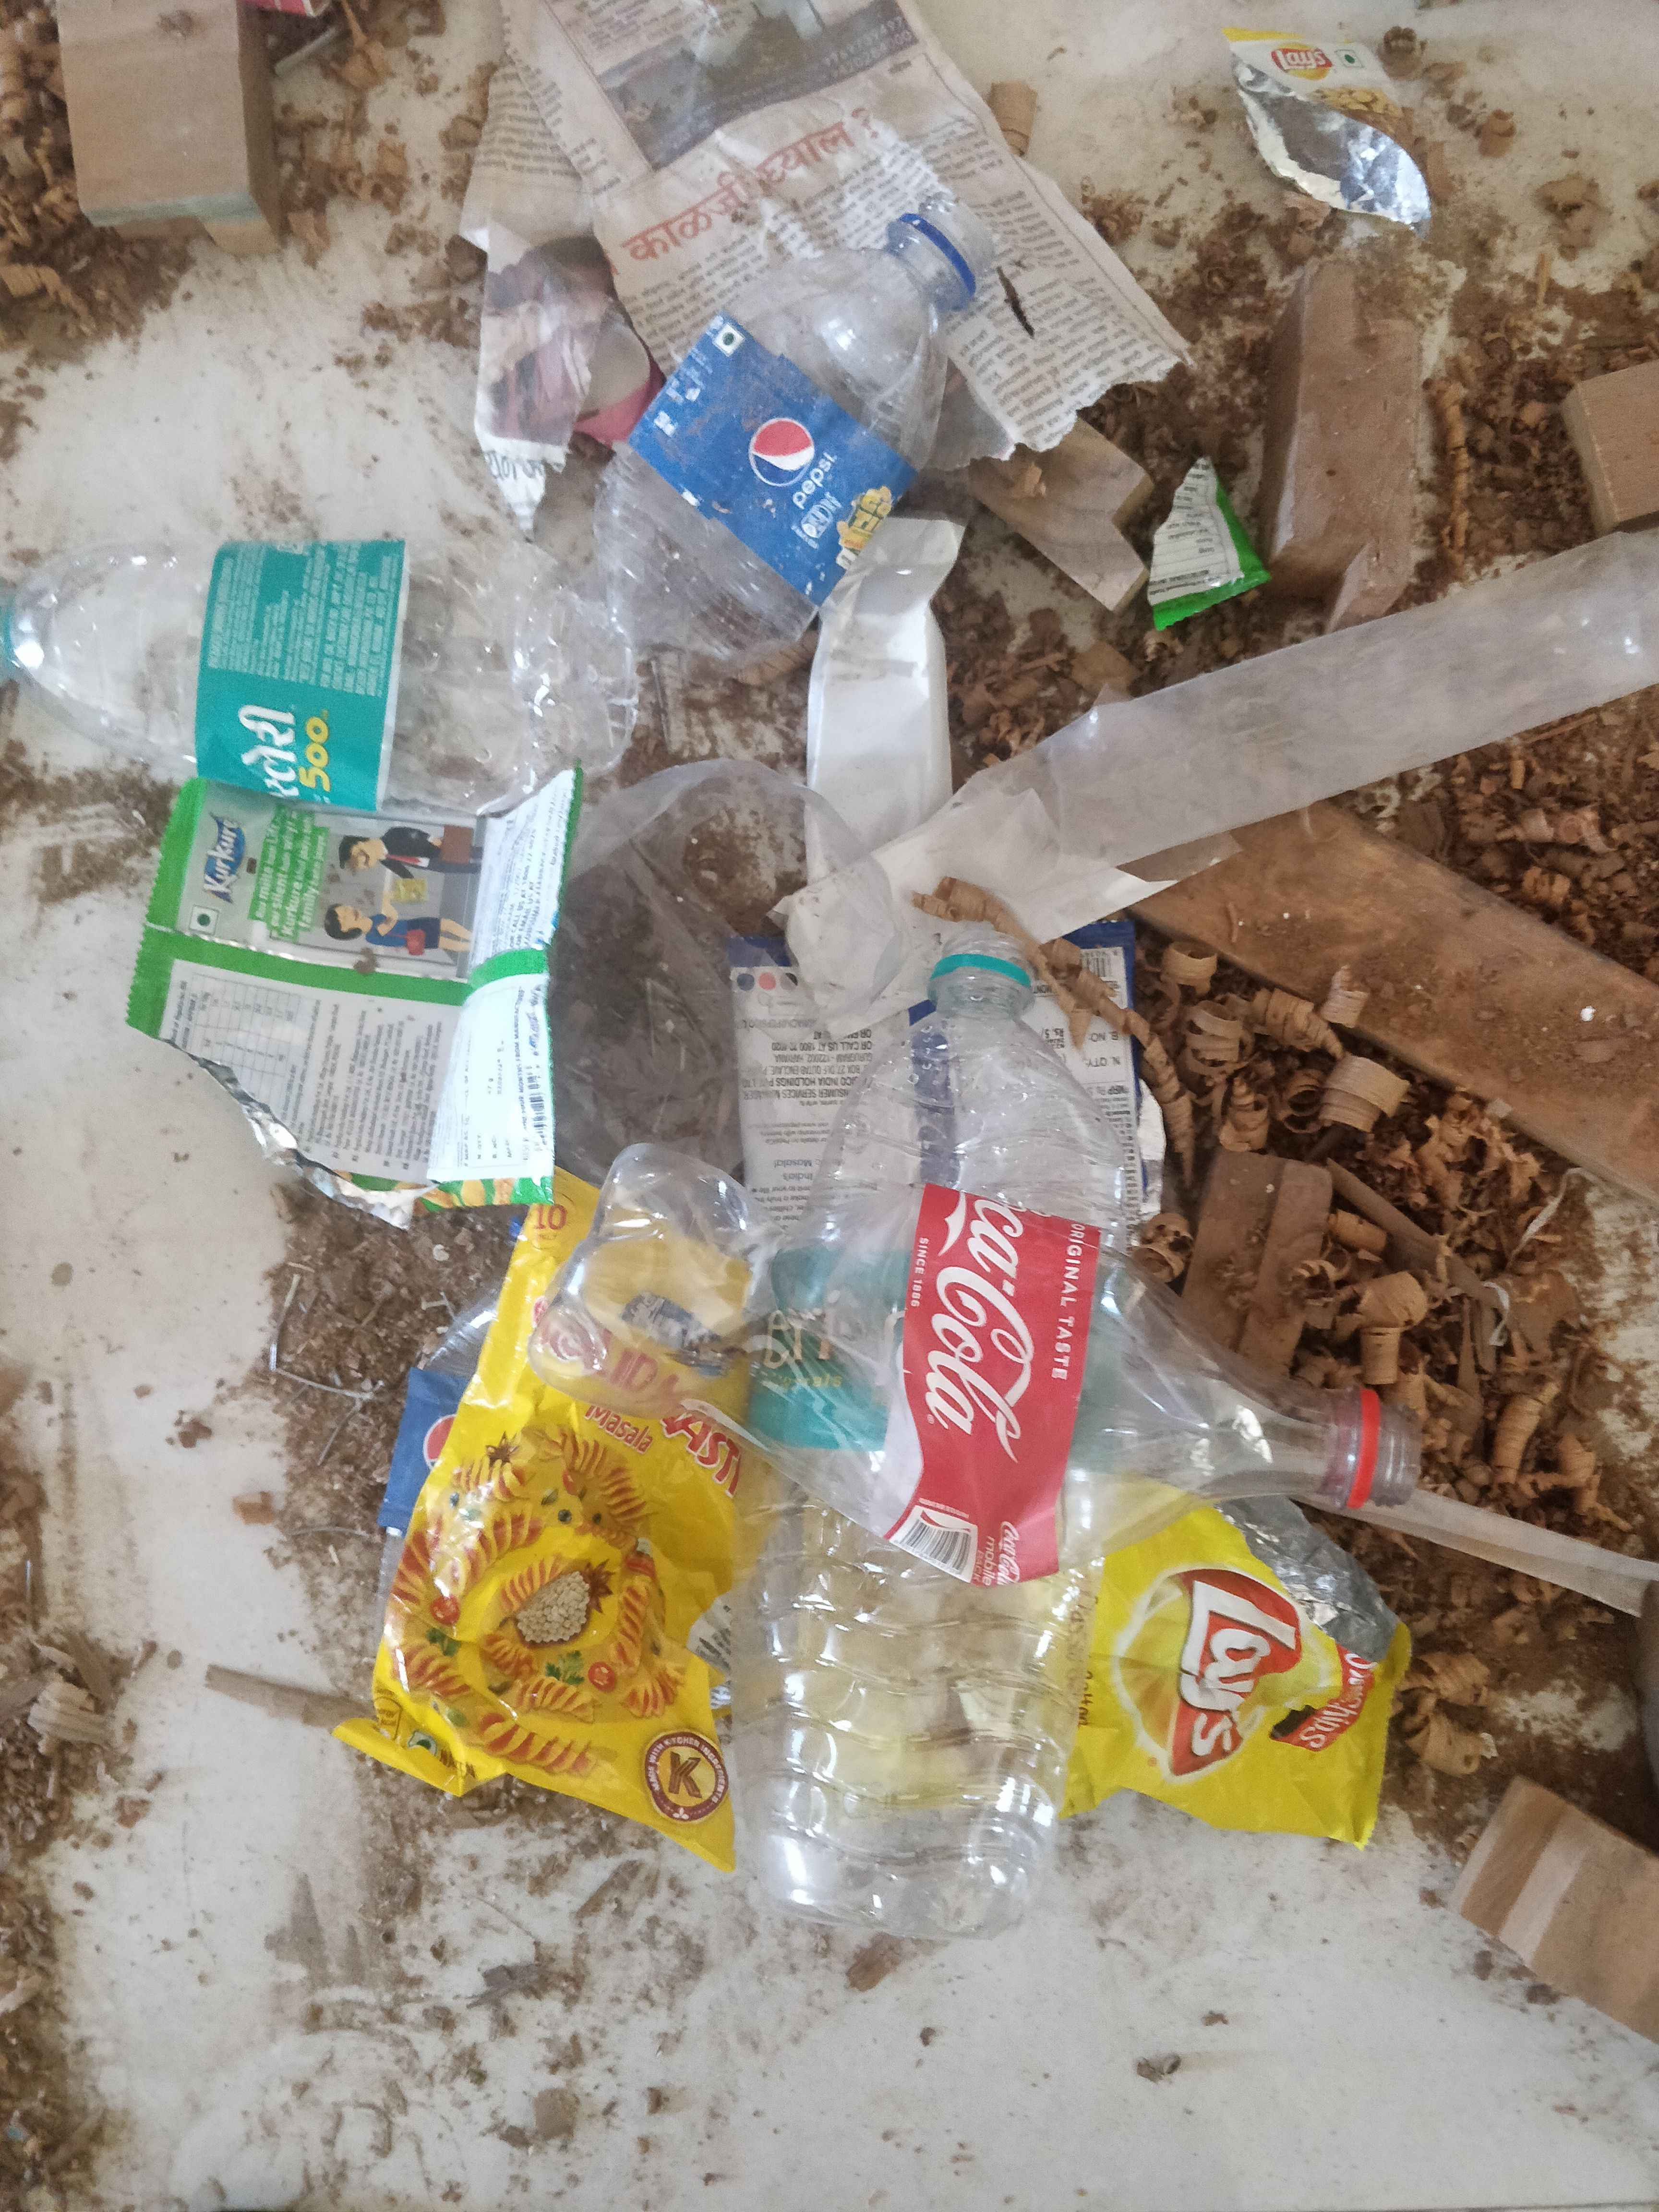Bisleri: (234, 545, 387, 819), (744, 1245, 904, 1451)
Coca-Cola: (922, 1125, 1066, 1571)
Lays: (1131, 1533, 1382, 1789), (1255, 35, 1368, 96)
kurkure: (624, 1282, 755, 1378), (199, 792, 253, 934)
pepsi: (737, 394, 901, 566), (390, 1388, 465, 1491)
